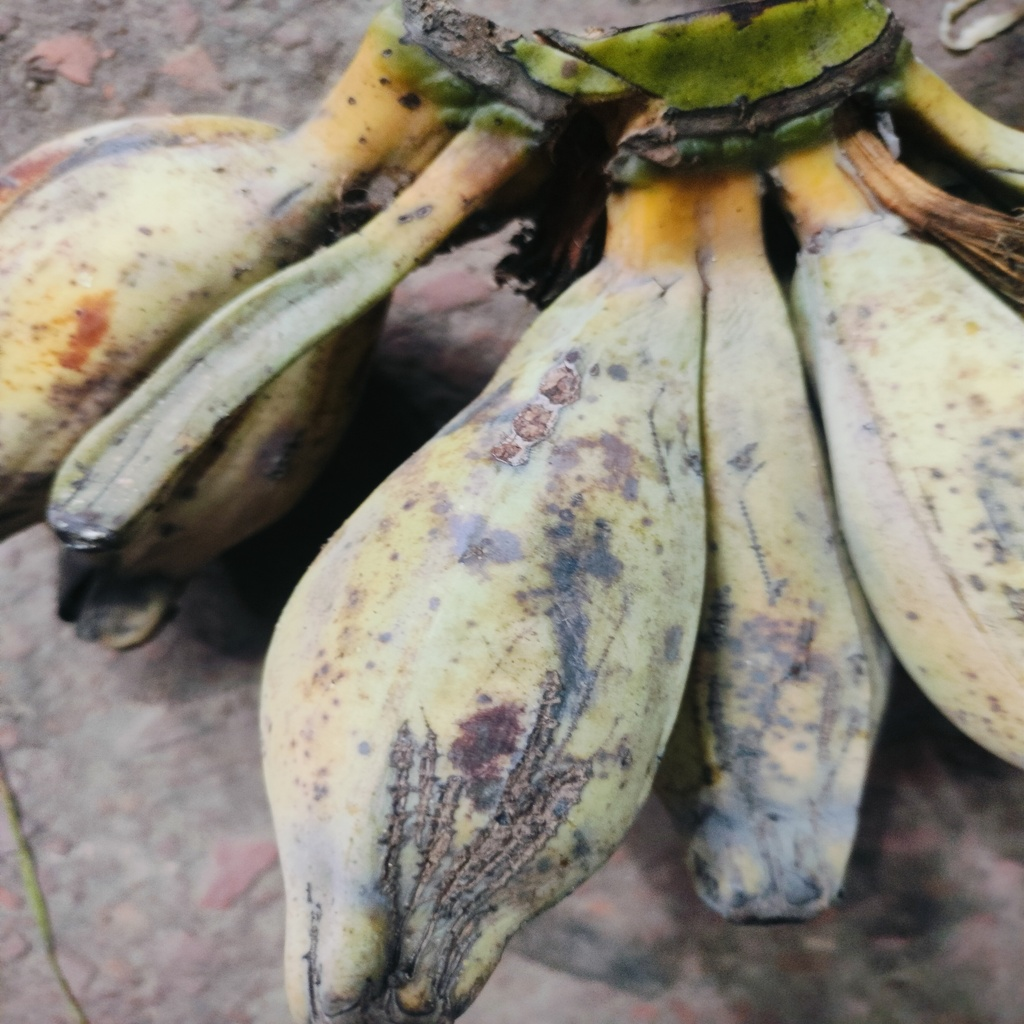unhealthy: (263, 263, 705, 1002)
